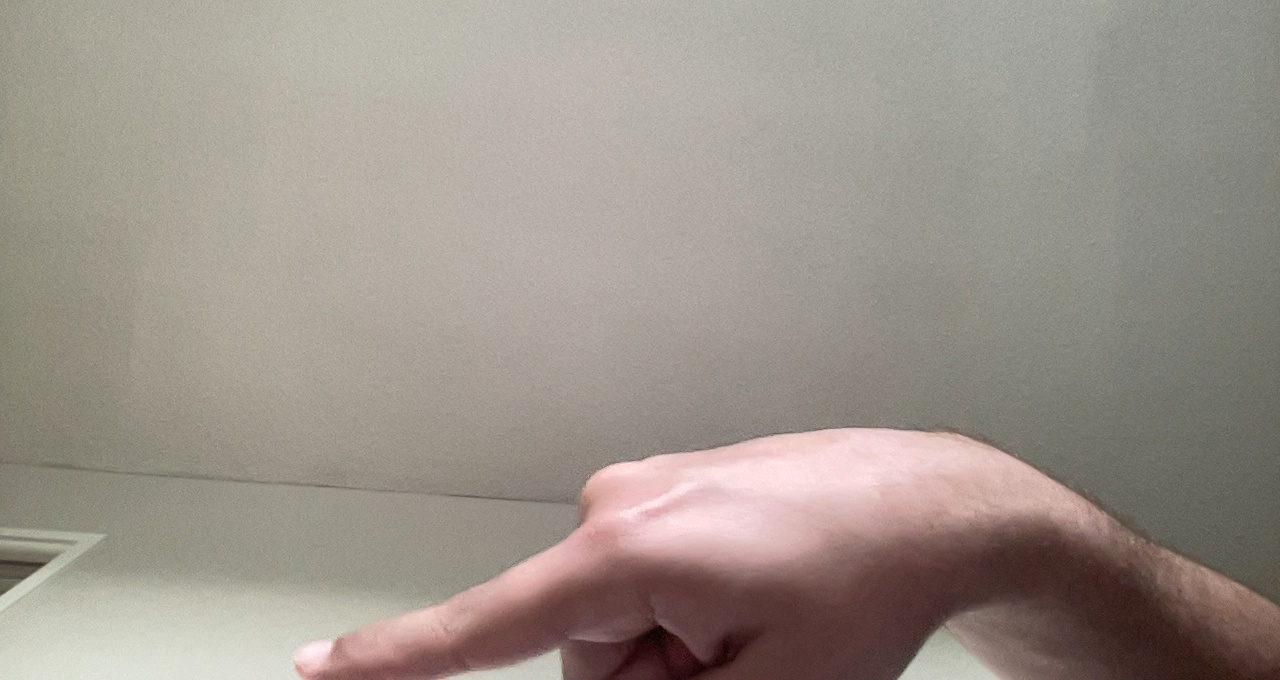fingerright: (287, 397, 941, 675)
